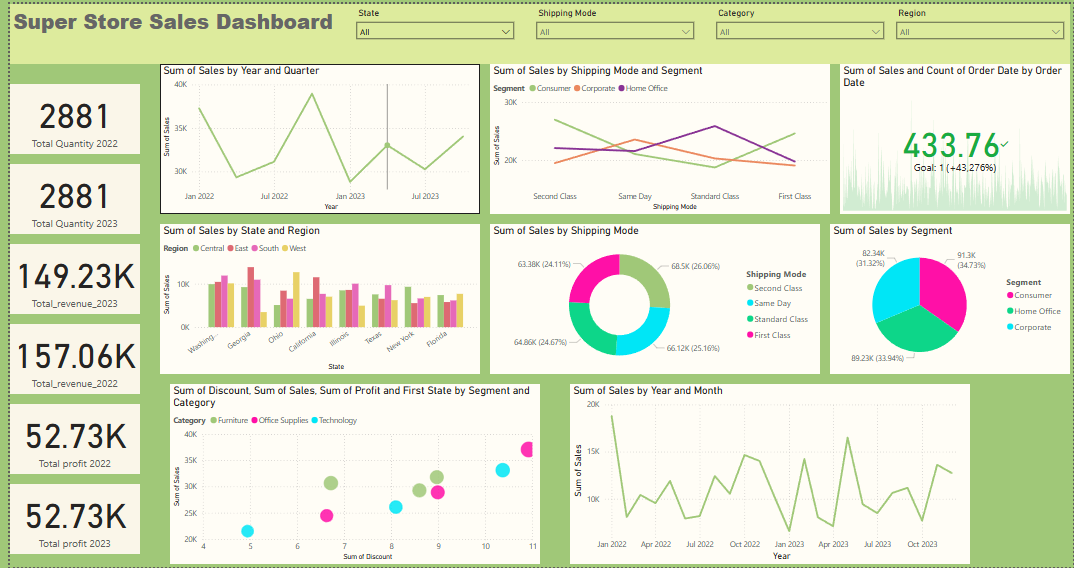

This screenshot's page, from the dashboard's own definition file:
{"tool":"powerbi","page":{"name":"Page 1","canvas":[1700,900],"ordinal":0},"visuals":[{"type":"clusteredColumnChart","fields":{"Y":["Sum(superstore data.Sales)"],"Category":["superstore data.State"],"Series":["superstore data.Region"]},"box":[240,352,512,240],"z":0},{"type":"lineChart","fields":{"Y":["Sum(superstore data.Sales)"],"Category":["superstore data.Order Date.Variation.Date Hierarchy.Year","superstore data.Order Date.Variation.Date Hierarchy.Quarter"]},"box":[240,96,512,240],"z":1},{"type":"donutChart","fields":{"Y":["Sum(superstore data.Sales)"],"Category":["superstore data.Shipping Mode"]},"box":[768,352,528,240],"z":2},{"type":"actionButton","box":[0,0,100,40],"z":4},{"type":"lineChart","fields":{"Y":["Sum(superstore data.Sales)"],"Category":["superstore data.Order Date.Variation.Date Hierarchy.Year","superstore data.Order Date.Variation.Date Hierarchy.Month"]},"box":[896,608,640,288],"z":6},{"type":"pieChart","fields":{"Y":["Sum(superstore data.Sales)"],"Category":["superstore data.Segment"]},"box":[1312,352,384,240],"z":7},{"type":"lineChart","fields":{"Category":["superstore data.Shipping Mode"],"Y":["Sum(superstore data.Sales)"],"Series":["superstore data.Segment"]},"box":[768,96,544,240],"z":8},{"type":"kpi","fields":{"Indicator":["Sum(superstore data.Sales)"],"TrendLine":["superstore data.Order Date"],"Goal":["CountNonNull(superstore data.Order Date)"]},"box":[1328,96,368,240],"z":9},{"type":"card","fields":{"Values":["superstore data.Total_revenue_2022"]},"box":[0,512,208,112],"z":10},{"type":"card","fields":{"Values":["superstore data.Total_revenue_2023"]},"box":[0,384,208,112],"z":11},{"type":"scatterChart","fields":{"X":["Sum(superstore data.Discount)"],"Y":["Sum(superstore data.Sales)"],"Size":["Sum(superstore data.Profit)"],"Series":["superstore data.Category"],"Category":["superstore data.Segment"]},"box":[256,608,592,288],"z":12},{"type":"card","fields":{"Values":["superstore data.Total Quantity 2023"]},"box":[0,256,208,112],"z":13},{"type":"card","fields":{"Values":["superstore data.Total Quantity 2022"]},"box":[0,128,208,112],"z":14},{"type":"textbox","box":[0,0,1696,96],"z":15},{"type":"card","fields":{"Values":["superstore data.Total profit 2022"]},"box":[0,640,208,112],"z":16},{"type":"card","fields":{"Values":["superstore data.Total profit 2023"]},"box":[0,768,208,112],"z":17},{"type":"slicer","fields":{"Values":["superstore data.State"]},"box":[544,0,272,80],"z":18},{"type":"slicer","fields":{"Values":["superstore data.Shipping Mode"]},"box":[832,0,272,80],"z":19},{"type":"slicer","fields":{"Values":["superstore data.Category"]},"box":[1120,0,288,80],"z":20},{"type":"slicer","fields":{"Values":["superstore data.Region"]},"box":[1408,0,288,80],"z":21}]}

Visuals, with their boxes in screenshot pixels (x1, y1, x2, y2), scaled from the page's 1700x900 canvas onto the 1074x568 screenshot:
clusteredColumnChart - Sum(superstore data.Sales) x superstore data.State: [x1=152, y1=222, x2=475, y2=374]
lineChart - Sum(superstore data.Sales) x superstore data.Order Date.Variation.Date Hierarchy.Year: [x1=152, y1=61, x2=475, y2=212]
donutChart - Sum(superstore data.Sales) x superstore data.Shipping Mode: [x1=485, y1=222, x2=819, y2=374]
actionButton: [x1=0, y1=0, x2=63, y2=25]
lineChart - Sum(superstore data.Sales) x superstore data.Order Date.Variation.Date Hierarchy.Year: [x1=566, y1=384, x2=970, y2=565]
pieChart - Sum(superstore data.Sales) x superstore data.Segment: [x1=829, y1=222, x2=1071, y2=374]
lineChart - superstore data.Shipping Mode x Sum(superstore data.Sales): [x1=485, y1=61, x2=829, y2=212]
kpi - Sum(superstore data.Sales) x superstore data.Order Date: [x1=839, y1=61, x2=1071, y2=212]
card - superstore data.Total_revenue_2022: [x1=0, y1=323, x2=131, y2=394]
card - superstore data.Total_revenue_2023: [x1=0, y1=242, x2=131, y2=313]
scatterChart - Sum(superstore data.Discount) x Sum(superstore data.Sales): [x1=162, y1=384, x2=536, y2=565]
card - superstore data.Total Quantity 2023: [x1=0, y1=162, x2=131, y2=232]
card - superstore data.Total Quantity 2022: [x1=0, y1=81, x2=131, y2=151]
textbox: [x1=0, y1=0, x2=1071, y2=61]
card - superstore data.Total profit 2022: [x1=0, y1=404, x2=131, y2=475]
card - superstore data.Total profit 2023: [x1=0, y1=485, x2=131, y2=555]
slicer - superstore data.State: [x1=344, y1=0, x2=516, y2=50]
slicer - superstore data.Shipping Mode: [x1=526, y1=0, x2=697, y2=50]
slicer - superstore data.Category: [x1=708, y1=0, x2=890, y2=50]
slicer - superstore data.Region: [x1=890, y1=0, x2=1071, y2=50]
